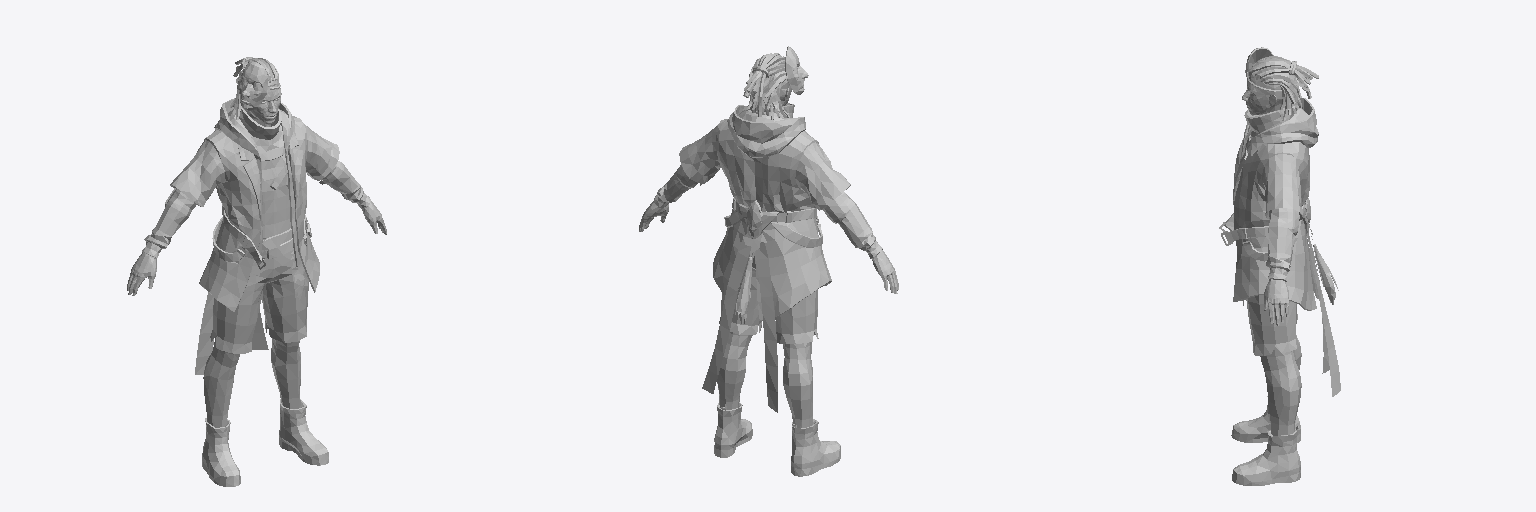
The model's file is Money Hist.obj.
3 views of the same model, side by side, from view 1: azimuth 30°, elevation 25°; view 2: azimuth 150°, elevation 25°; view 3: azimuth 270°, elevation 25° (orthographic).
Parts seen in each view (by area): view 1: 01top.001, 01top.006, 01top.003, 01top.005, 01top.004, 01top; view 2: 01top.001, 01top.006, 01top.003, 01top.004, 01top.005; view 3: 01top.001, 01top.006, 01top.003, 01top.004, 01top.
Boxes of the visible parts, x1,y1,x2,y2 form: 01top.001: [129, 98, 384, 374]; 01top.006: [203, 228, 308, 427]; 01top.003: [202, 399, 328, 486]; 01top.005: [239, 62, 280, 110]; 01top.004: [230, 57, 278, 119]; 01top: [249, 80, 281, 124]; 01top.001: [641, 103, 896, 412]; 01top.006: [717, 253, 818, 427]; 01top.003: [714, 402, 840, 476]; 01top.004: [743, 53, 789, 119]; 01top.005: [780, 46, 808, 94]; 01top.001: [1219, 98, 1340, 396]; 01top.006: [1243, 295, 1301, 435]; 01top.003: [1231, 396, 1300, 485]; 01top.004: [1249, 55, 1318, 120]; 01top: [1242, 77, 1285, 115].
Size of the model in its own units: 0.6527 by 0.9882 by 0.2703.